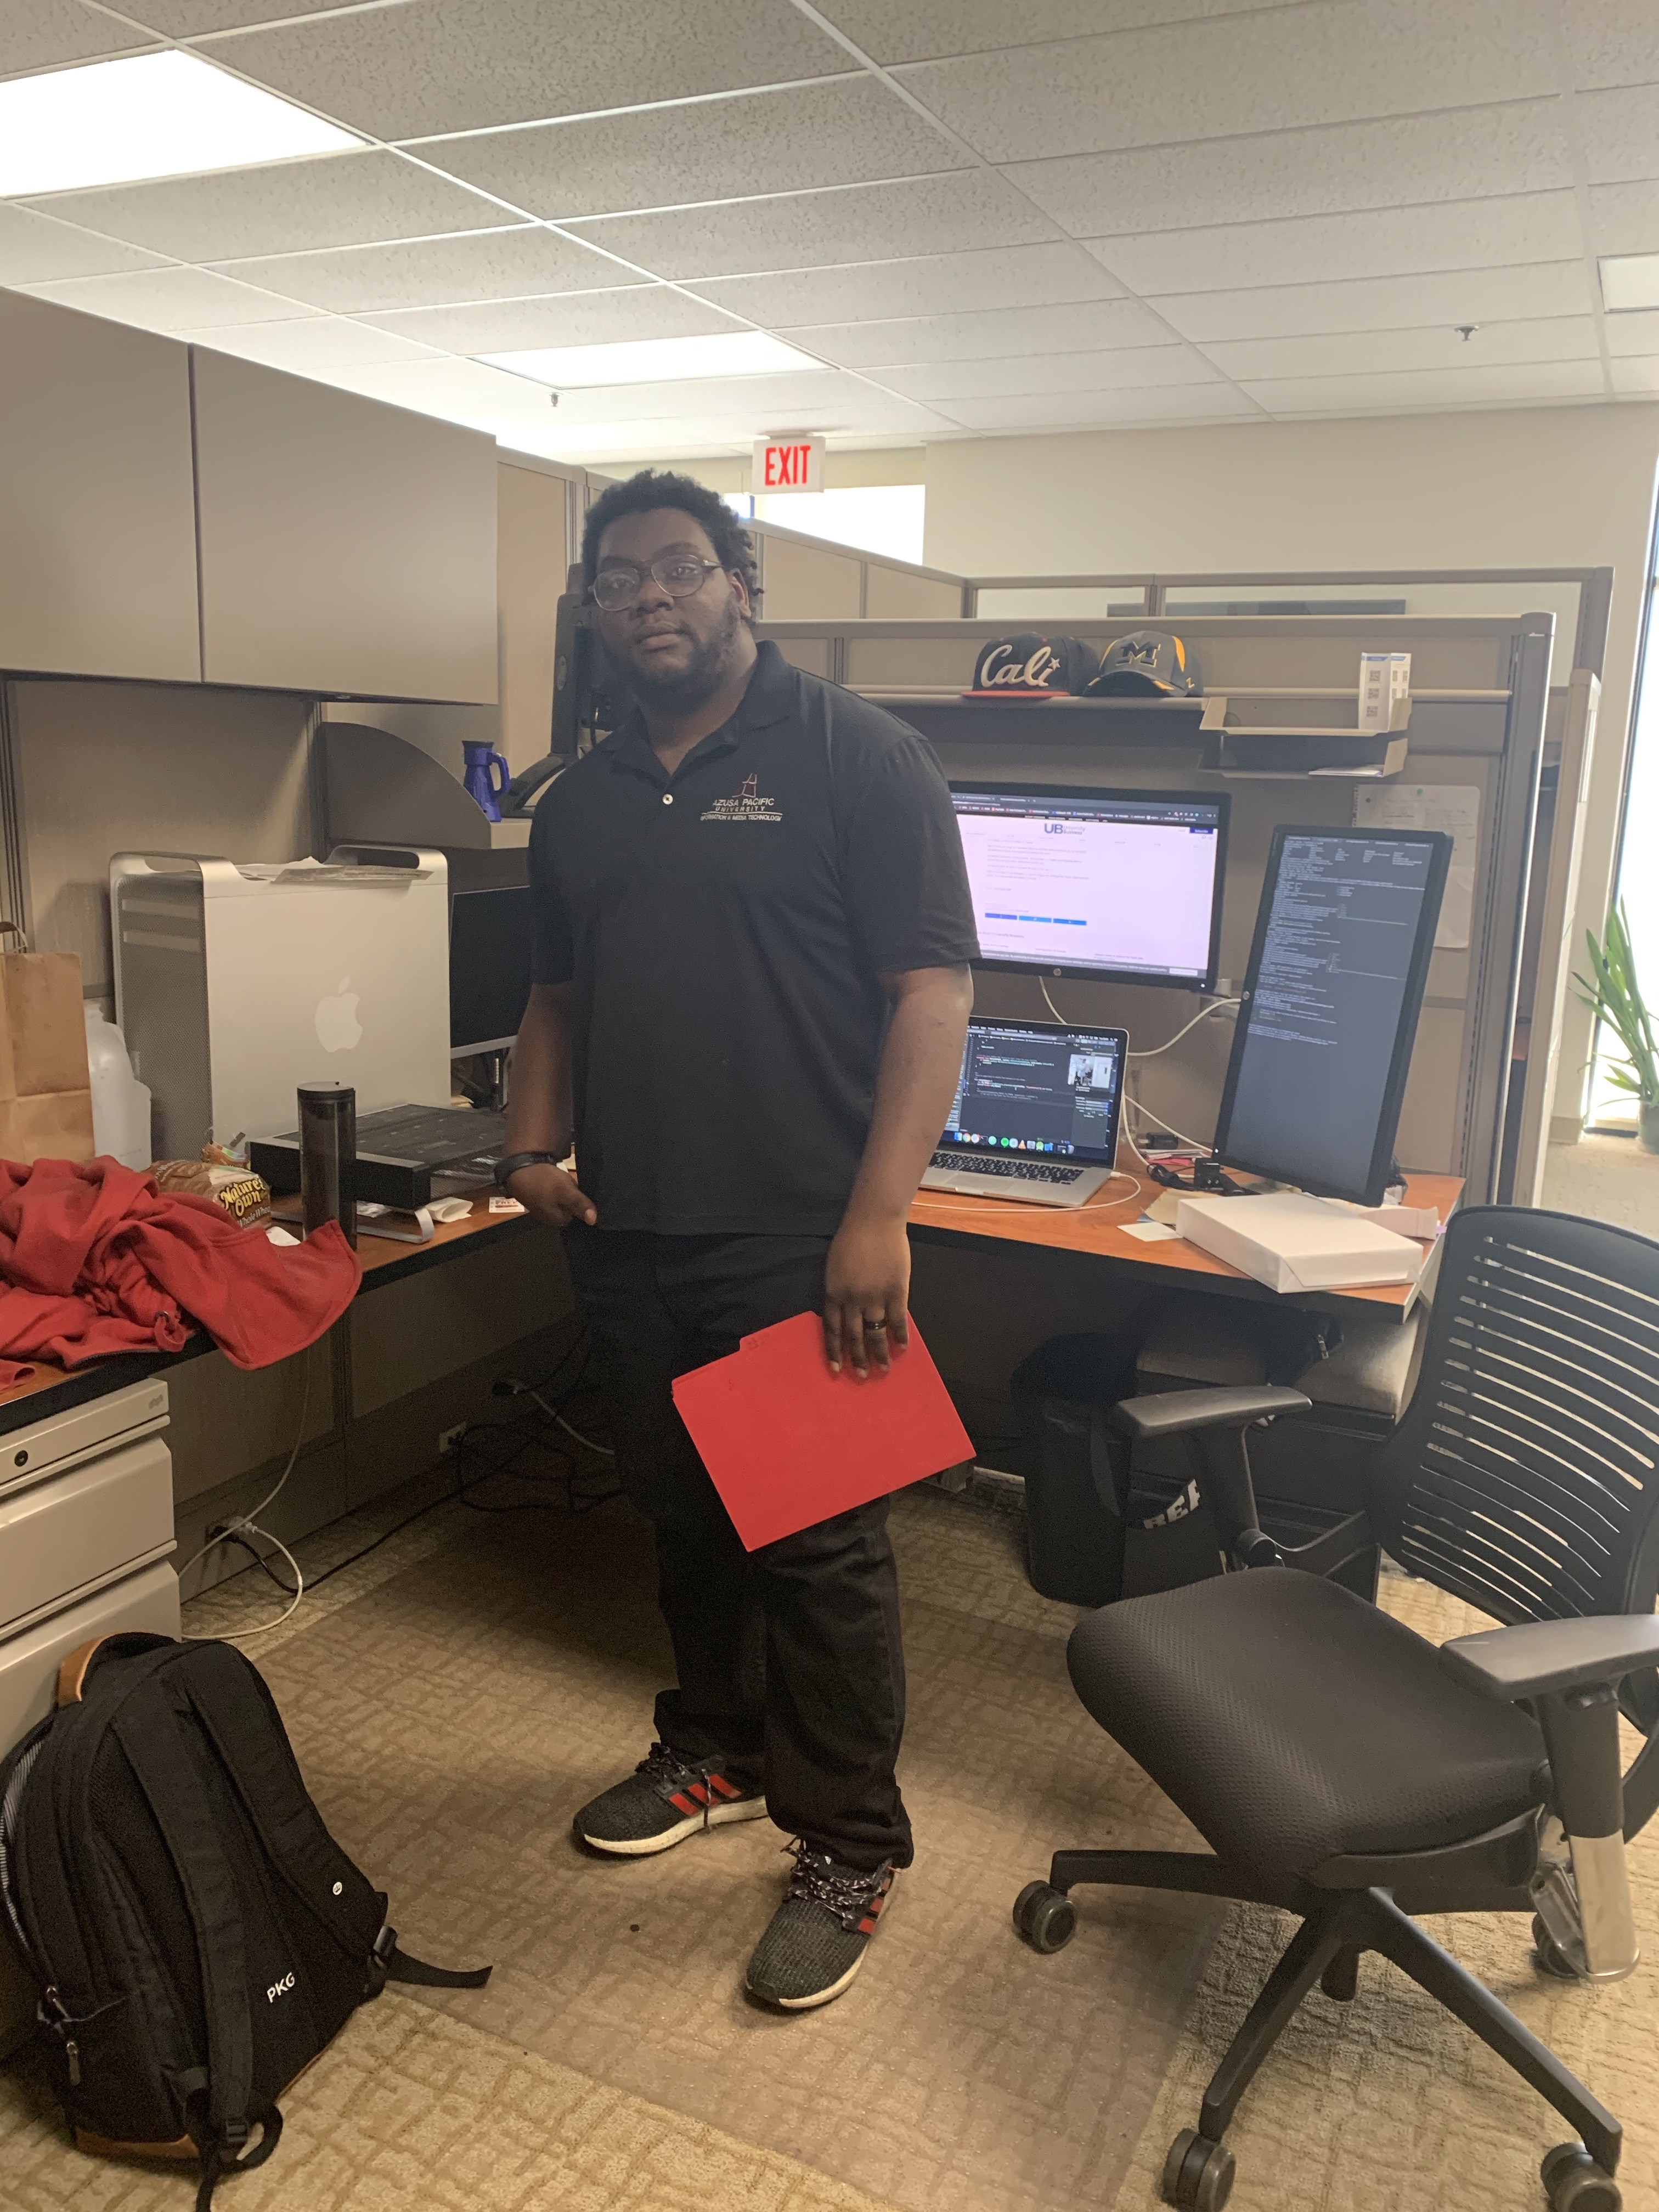red folder: (657, 1301, 1011, 1568)
